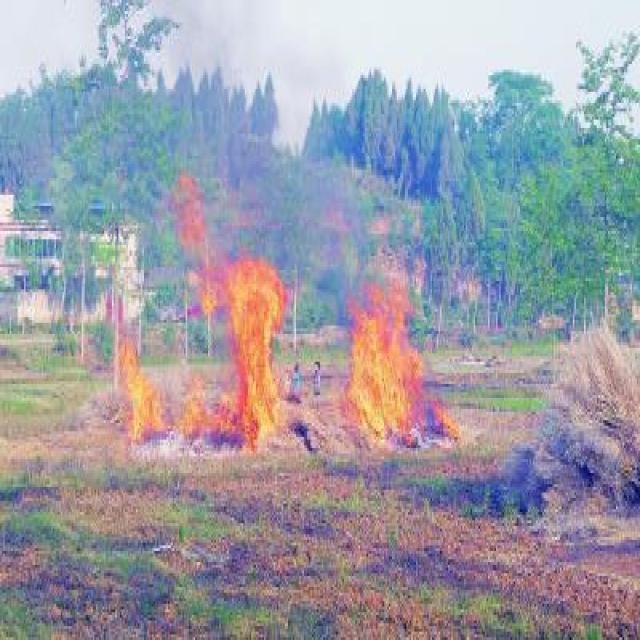fire: (180, 250, 283, 440), (346, 263, 420, 447), (102, 302, 166, 438)
